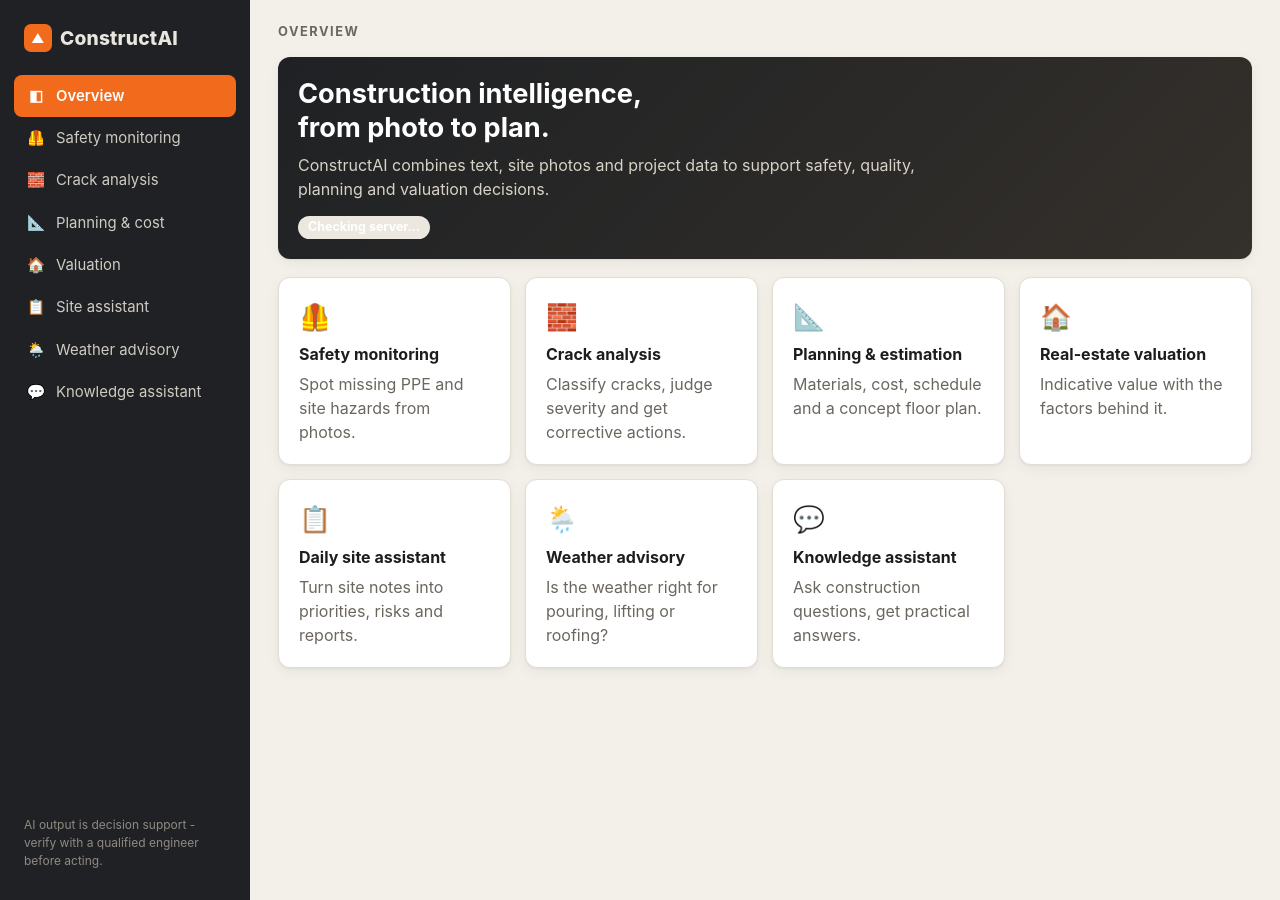
Test: planning module › validates inputs before sending
The width and height of the screenshot is (1280, 900).
Click the button "📐 Planning & cost" at (125, 223), box left=14, top=202, right=236, bottom=244
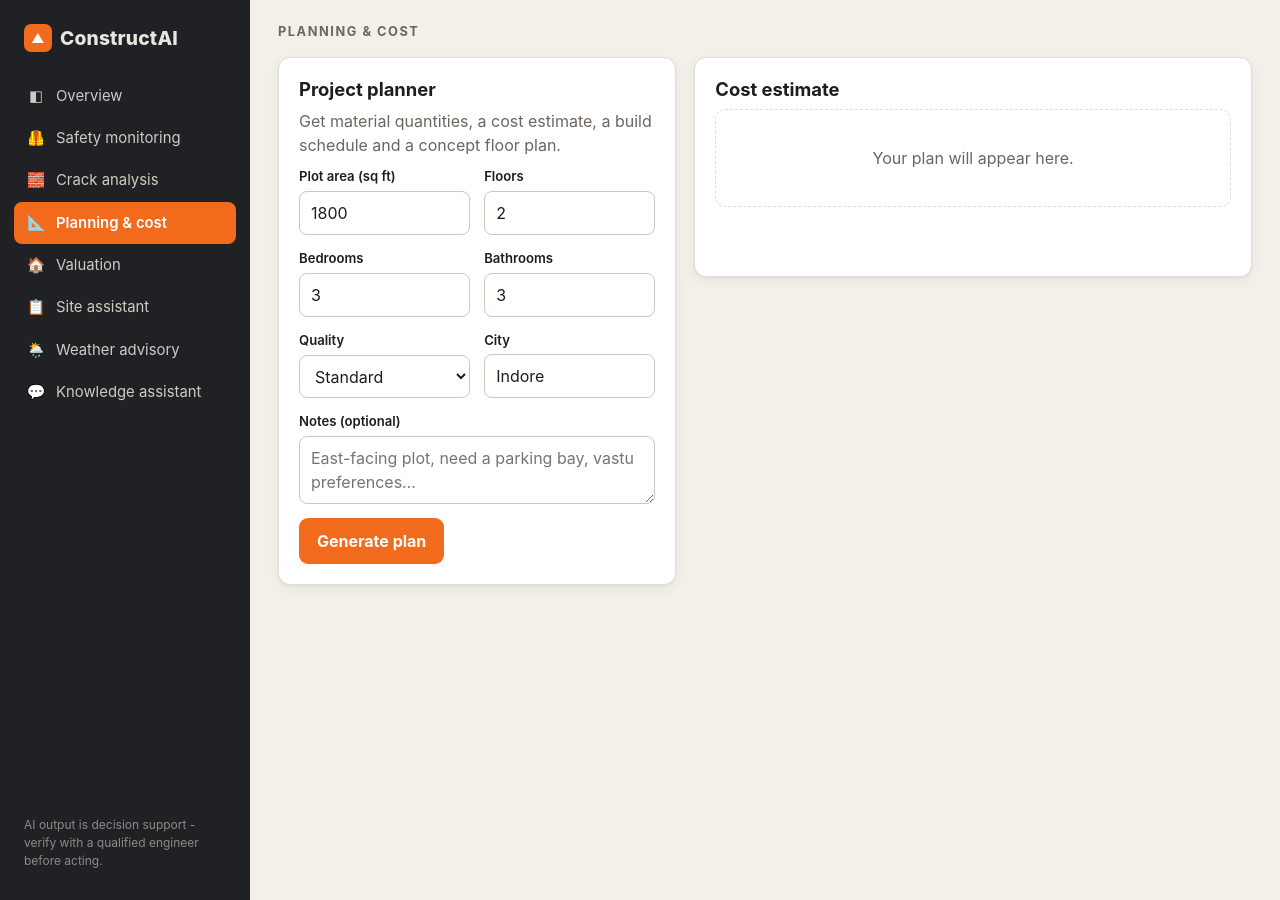
Replace the text in the number field labelled "Plot area (sq ft)" with "50" at (385, 213), box left=299, top=191, right=470, bottom=235
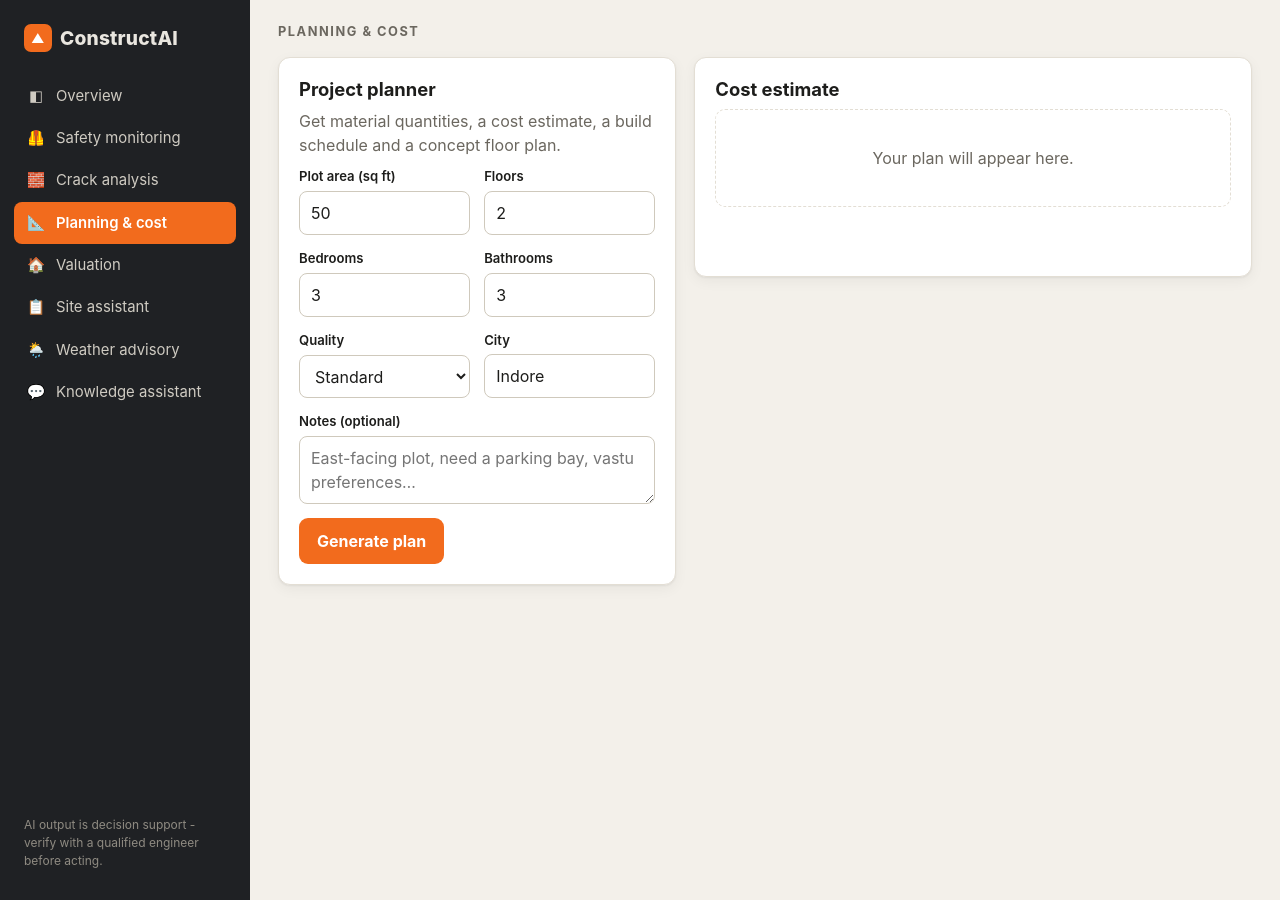
Submit the form named "Generate plan", box left=278, top=57, right=676, bottom=585
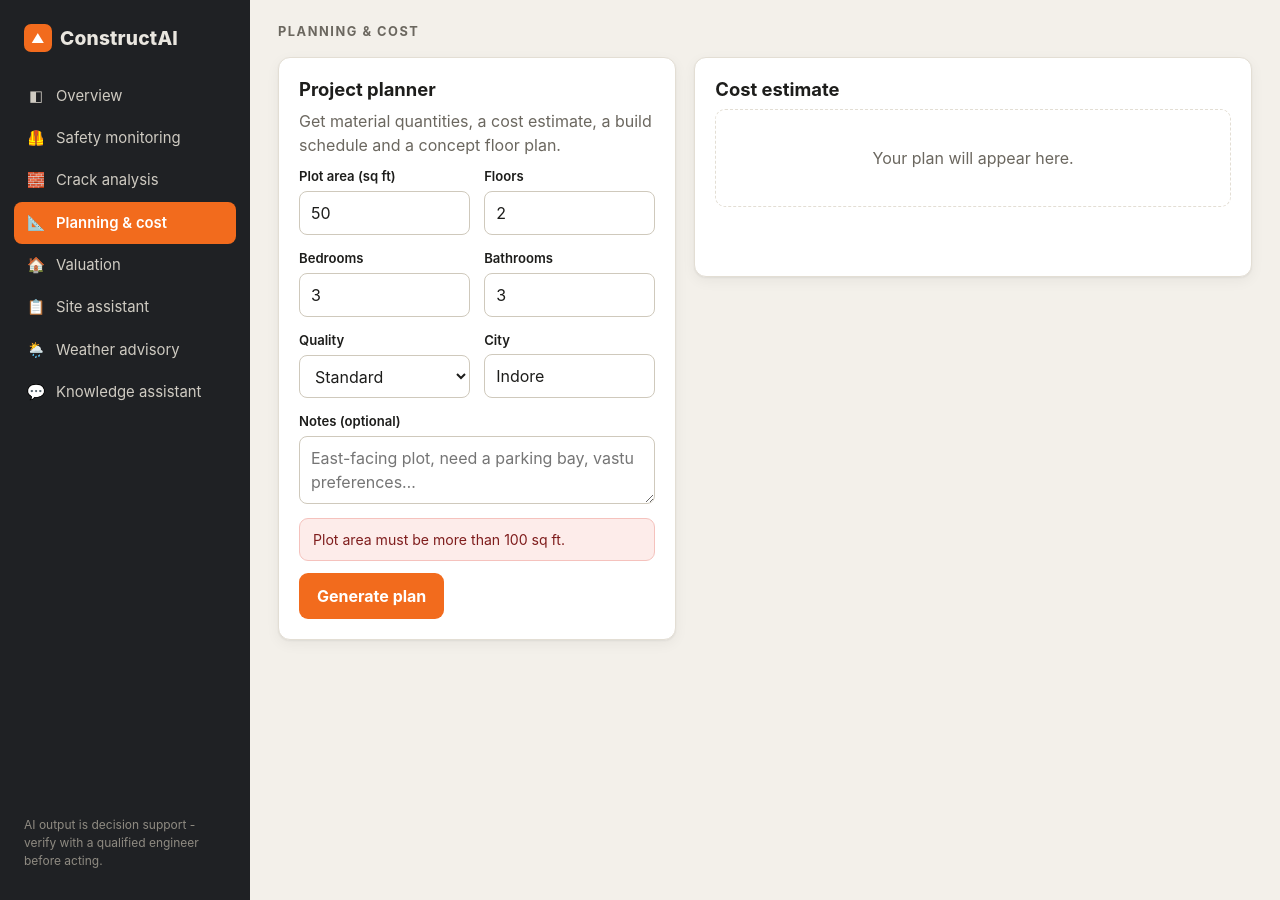
Result: the text "Plot area must be more than 100 sq ft." is shown at left=299, top=518, right=655, bottom=561
